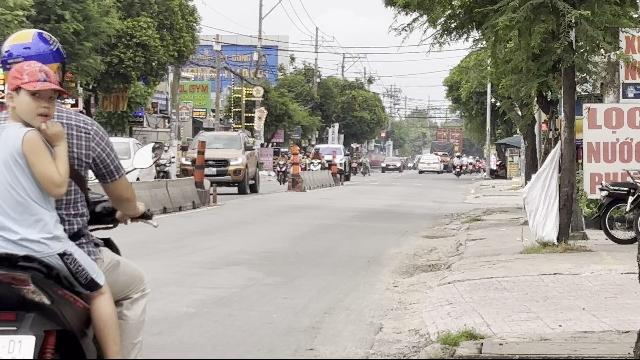helmet: (0, 28, 70, 80)
motorcyclist: (0, 22, 156, 356)
nohelmet: (3, 62, 72, 130)
